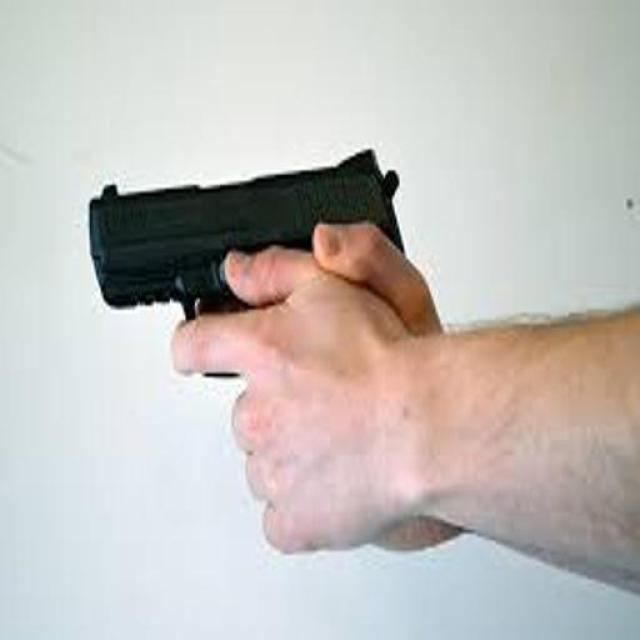pistol: (75, 106, 421, 387)
